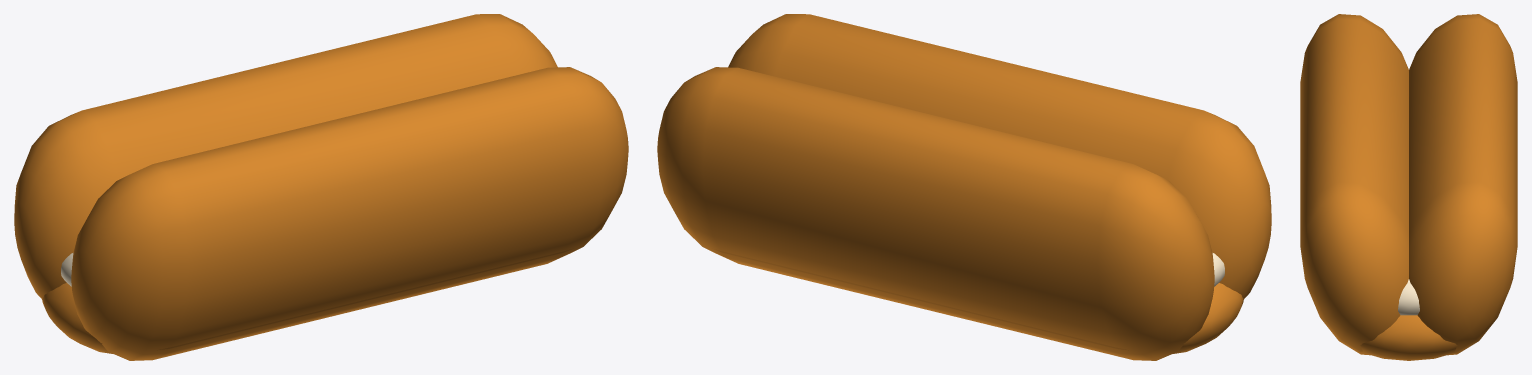
Rendered from Bun.fbx.
The picture shows the model from 3 angles, left to right: view 1: azimuth 30°, elevation 25°; view 2: azimuth 150°, elevation 25°; view 3: azimuth 270°, elevation 25°; orthographic projection. The views are drawn at different scales.
Parts seen in each view (by area): view 1: Bun; view 2: Bun; view 3: Bun.
Boxes of the visible parts, x1,y1,x2,y2 form: Bun: (14, 14, 628, 360); Bun: (657, 14, 1271, 360); Bun: (1300, 14, 1517, 360).
Bounding box in the file's own units: 1.76 × 0.6217 × 0.7233.
